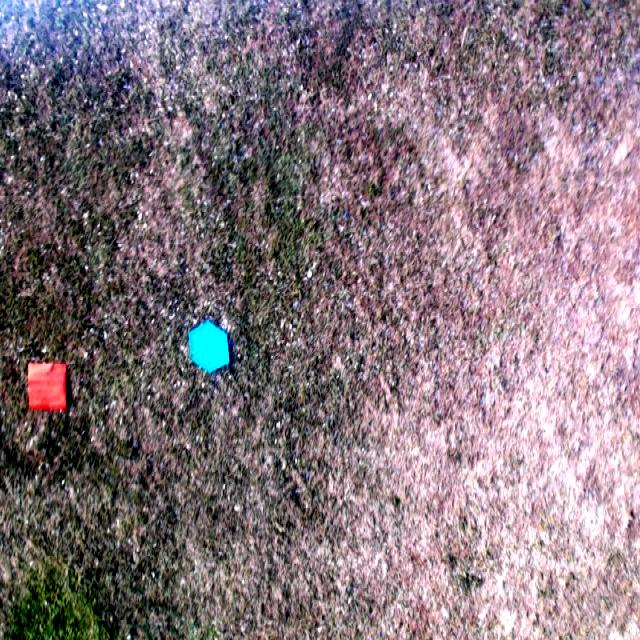blue_hexagon: (189, 318, 231, 374)
red_square: (26, 360, 67, 412)
